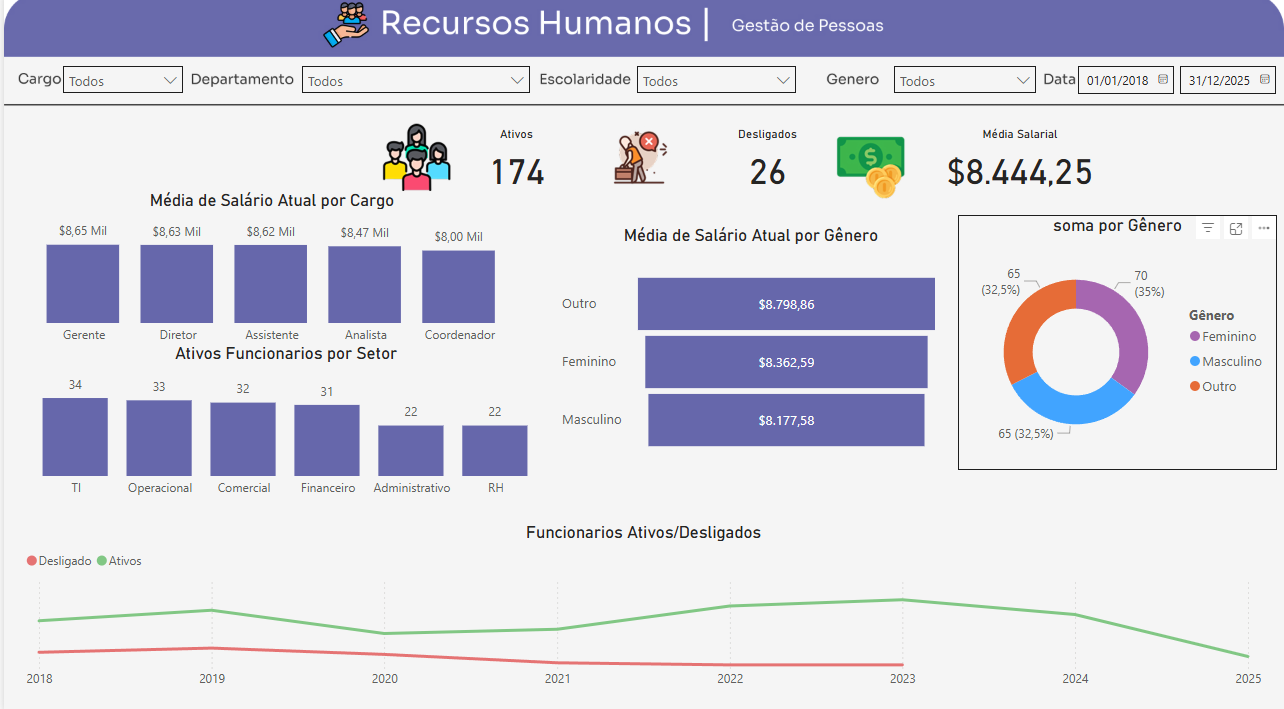

The dashboard page shown, as its layout file describes it:
{"tool":"powerbi","page":{"name":"Page 1","canvas":[1280,720],"ordinal":0},"visuals":[{"type":"slicer","fields":{"Values":["Fato_Funcionarios.Cargo"]},"box":[49.4,62.8,139.2,43.1],"z":0},{"type":"slicer","fields":{"Values":["Fato_Funcionarios.Setor"]},"box":[288.2,62.8,247.8,43.1],"z":1000},{"type":"slicer","fields":{"Values":["Fato_Funcionarios.Escolaridade"]},"box":[623,62.8,178.7,43.1],"z":2000},{"type":"slicer","fields":{"Values":["Fato_Funcionarios.Gênero"]},"box":[879.8,62.8,162.5,43.1],"z":3000},{"type":"slicer","fields":{"Values":["d_Calendario.Data"]},"box":[1061.1,62.8,219.1,44.9],"z":4000},{"type":"card","title":"Ativos","fields":{"Values":["_Medidas.Ativos Funcionarios"]},"box":[461,134,103,70],"z":5000},{"type":"card","title":"Desligados","fields":{"Values":["_Medidas.Total Funcionarios"]},"box":[712,134,103,70],"z":6000},{"type":"card","title":"Média Salarial","fields":{"Values":["Avg(Fato_Funcionarios.Salário Atual)"]},"box":[910,134,212,70],"z":7000},{"type":"lineChart","title":"Funcionarios Ativos/Desligados","fields":{"Y":["_Medidas.Desligado Funcionarios","_Medidas.Ativos Funcionarios"],"Category":["d_Calendario.Data.Variation.Date Hierarchy.Year","d_Calendario.Data.Variation.Date Hierarchy.Month"]},"box":[17,529,1245,175],"z":8000},{"type":"columnChart","fields":{"Category":["Fato_Funcionarios.Cargo"],"Y":["Avg(Fato_Funcionarios.Salário Atual)"]},"box":[0,197,536,163],"z":9000},{"type":"columnChart","fields":{"Category":["Fato_Funcionarios.Setor"],"Y":["_Medidas.Ativos Funcionarios"]},"box":[0,350,564,163],"z":10000},{"type":"funnel","fields":{"Category":["Fato_Funcionarios.Gênero"],"Y":["Avg(Fato_Funcionarios.Salário Atual)"]},"box":[553,232,388,255],"z":11000},{"type":"donutChart","fields":{"Category":["Fato_Funcionarios.Gênero"],"Y":["_Medidas.soma"]},"box":[954,222,319,255],"z":12000}]}

Visuals, with their boxes in screenshot pixels (x1, y1, x2, y2), scaled from the page's 1280x720 canvas onto the 1284x709 screenshot:
slicer - Fato_Funcionarios.Cargo: bbox=(50, 62, 189, 104)
slicer - Fato_Funcionarios.Setor: bbox=(289, 62, 538, 104)
slicer - Fato_Funcionarios.Escolaridade: bbox=(625, 62, 804, 104)
slicer - Fato_Funcionarios.Gênero: bbox=(883, 62, 1046, 104)
slicer - d_Calendario.Data: bbox=(1064, 62, 1283, 106)
"Ativos" card: bbox=(462, 132, 566, 201)
"Desligados" card: bbox=(714, 132, 818, 201)
"Média Salarial" card: bbox=(913, 132, 1126, 201)
"Funcionarios Ativos/Desligados" lineChart: bbox=(17, 521, 1266, 693)
columnChart - Fato_Funcionarios.Cargo x Avg(Fato_Funcionarios.Salário Atual): bbox=(0, 194, 538, 354)
columnChart - Fato_Funcionarios.Setor x _Medidas.Ativos Funcionarios: bbox=(0, 345, 566, 505)
funnel - Fato_Funcionarios.Gênero x Avg(Fato_Funcionarios.Salário Atual): bbox=(555, 228, 944, 480)
donutChart - Fato_Funcionarios.Gênero x _Medidas.soma: bbox=(957, 219, 1277, 470)
